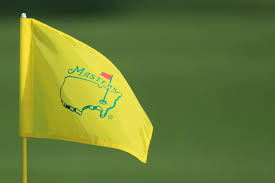Flag: (18, 11, 154, 164)
